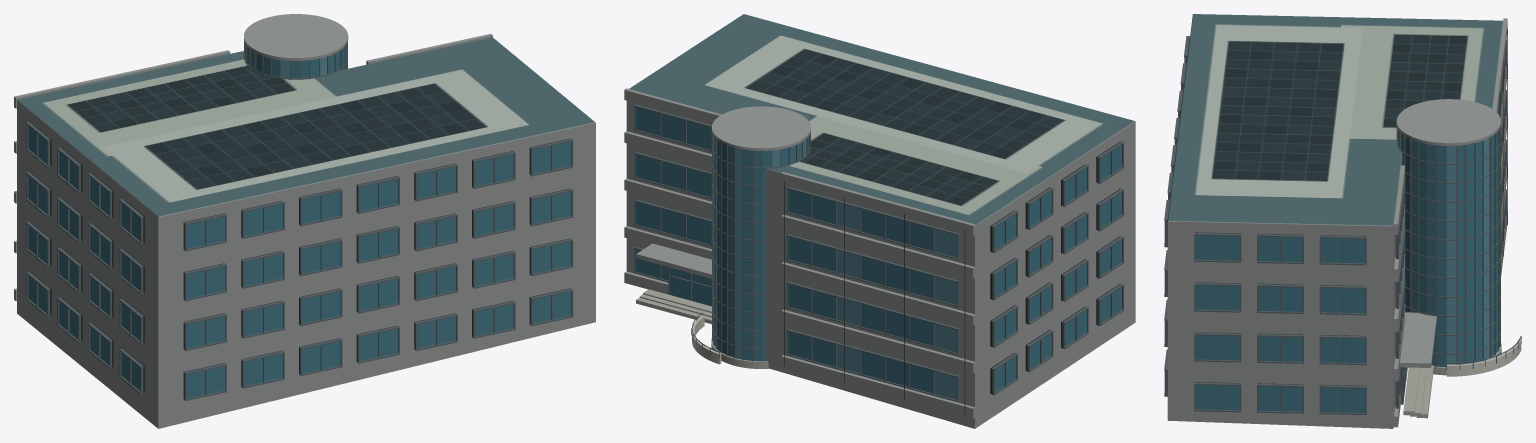
Rendered from intact.glb.
3 views of the same model, side by side, from view 1: azimuth 30°, elevation 25°; view 2: azimuth 150°, elevation 25°; view 3: azimuth 270°, elevation 25° (orthographic). The views are drawn at different scales.
Parts seen in each view (by area): view 1: SM_524021463_Intact_00, SM_524021463_Intact_01, SM_524021463_Intact_03, SM_524021463_Intact_05, SM_524021463_Intact_04; view 2: SM_524021463_Intact_00, SM_524021463_Intact_01, SM_524021463_Intact_05, SM_524021463_Intact_03, SM_524021463_Intact_02, SM_524021463_Intact_04, SM_524021463_Intact_07, SM_524021463_Intact_06; view 3: SM_524021463_Intact_00, SM_524021463_Intact_01, SM_524021463_Intact_03, SM_524021463_Intact_05, SM_524021463_Intact_02, SM_524021463_Intact_07, SM_524021463_Intact_04, SM_524021463_Intact_06.
Boxes of the visible parts, x1,y1,x2,y2 form: SM_524021463_Intact_00: (17,37,595,428); SM_524021463_Intact_01: (28,44,571,398); SM_524021463_Intact_03: (26,41,573,400); SM_524021463_Intact_05: (14,14,492,301); SM_524021463_Intact_04: (29,122,570,398); SM_524021463_Intact_00: (626,14,1135,428); SM_524021463_Intact_01: (636,107,1121,393); SM_524021463_Intact_05: (624,88,975,418); SM_524021463_Intact_03: (634,104,1124,402); SM_524021463_Intact_02: (714,137,957,399); SM_524021463_Intact_04: (784,141,1120,415); SM_524021463_Intact_07: (636,289,768,368); SM_524021463_Intact_06: (692,315,721,364); SM_524021463_Intact_00: (1167,14,1502,428); SM_524021463_Intact_01: (1177,129,1499,412); SM_524021463_Intact_03: (1164,36,1521,414); SM_524021463_Intact_05: (1393,18,1507,427); SM_524021463_Intact_02: (1411,138,1489,364); SM_524021463_Intact_07: (1403,343,1501,418); SM_524021463_Intact_04: (1167,29,1507,394); SM_524021463_Intact_06: (1446,339,1521,376).
Bounding box in the file's own units: 2.2 × 1.12 × 1.55.
Materials: 9 (1 with a texture image).
